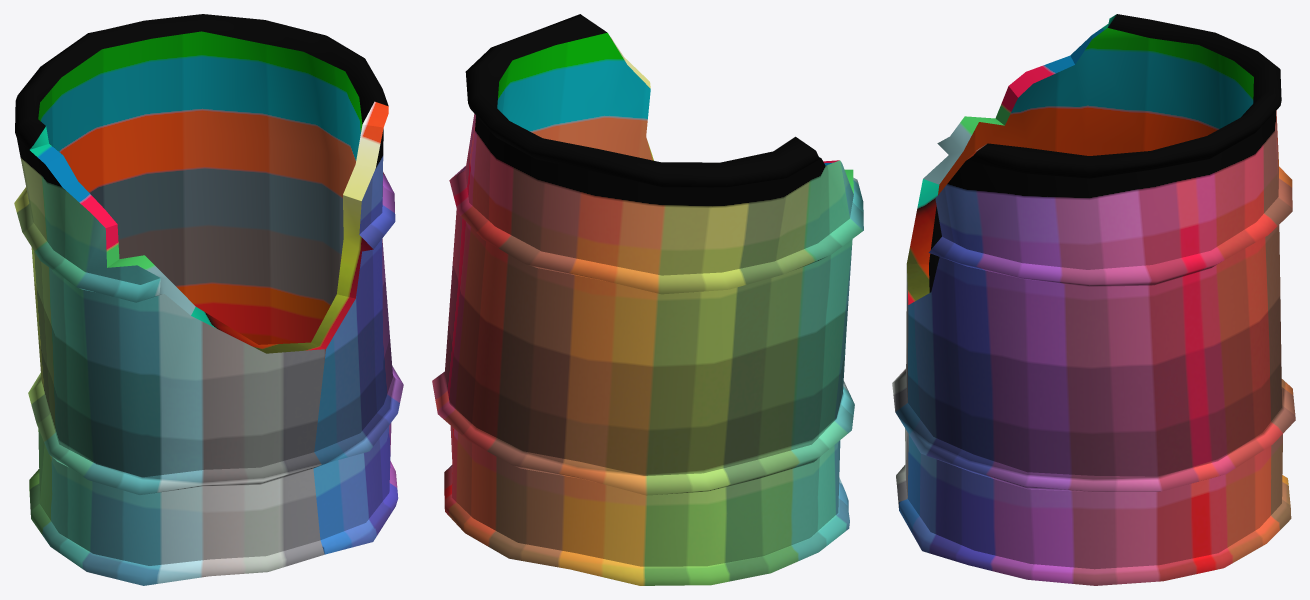
File: Barrel.FBX
The picture shows the model from 3 angles, left to right: view 1: azimuth 30°, elevation 25°; view 2: azimuth 150°, elevation 25°; view 3: azimuth 270°, elevation 25°; orthographic projection. The views are drawn at different scales.
Parts seen in each view (by area): view 1: Barrel; view 2: Barrel; view 3: Barrel.
Part boxes in pixels (box(x1,y1,x2,y2)): Barrel: box(14, 14, 403, 585); Barrel: box(432, 14, 863, 585); Barrel: box(892, 14, 1295, 585).
Size of the model in its own units: 75.76 by 87.79 by 73.18.
1 material, 1 textured.
